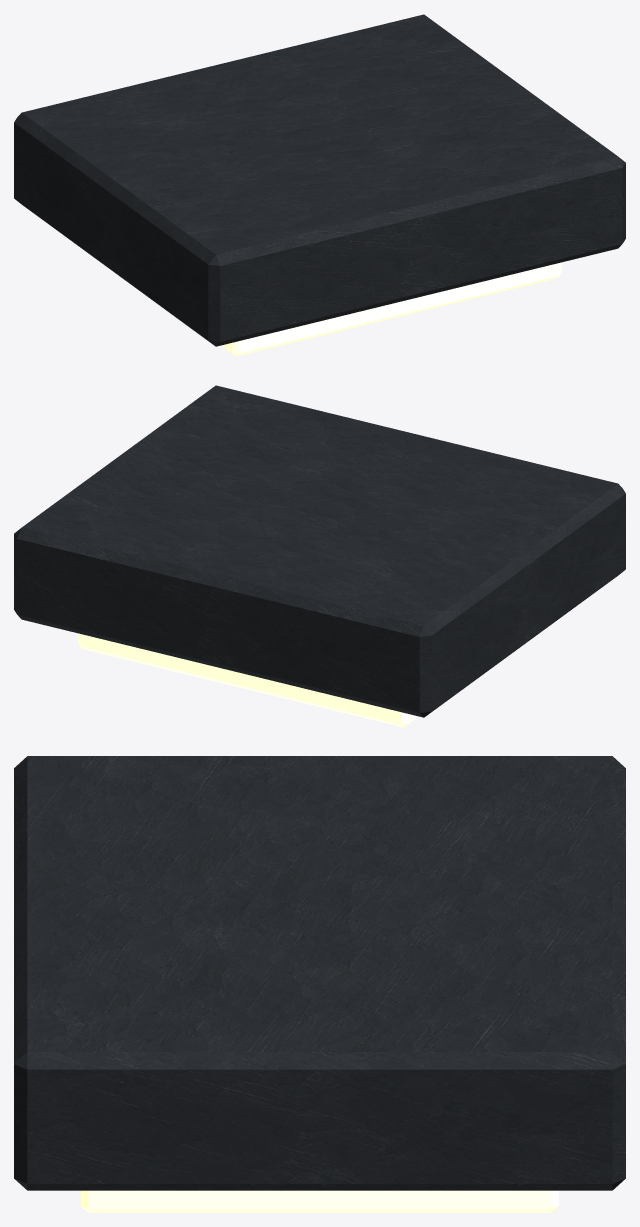
Rendered from train_ceiling_light.gltf.
3 renders of one model, top to bottom at view 1: azimuth 30°, elevation 25°; view 2: azimuth 150°, elevation 25°; view 3: azimuth 270°, elevation 25°, orthographic. The views are drawn at different scales.
Size of the model in its own units: 0.76 by 0.22 by 0.64.
2 materials, 1 textured.
